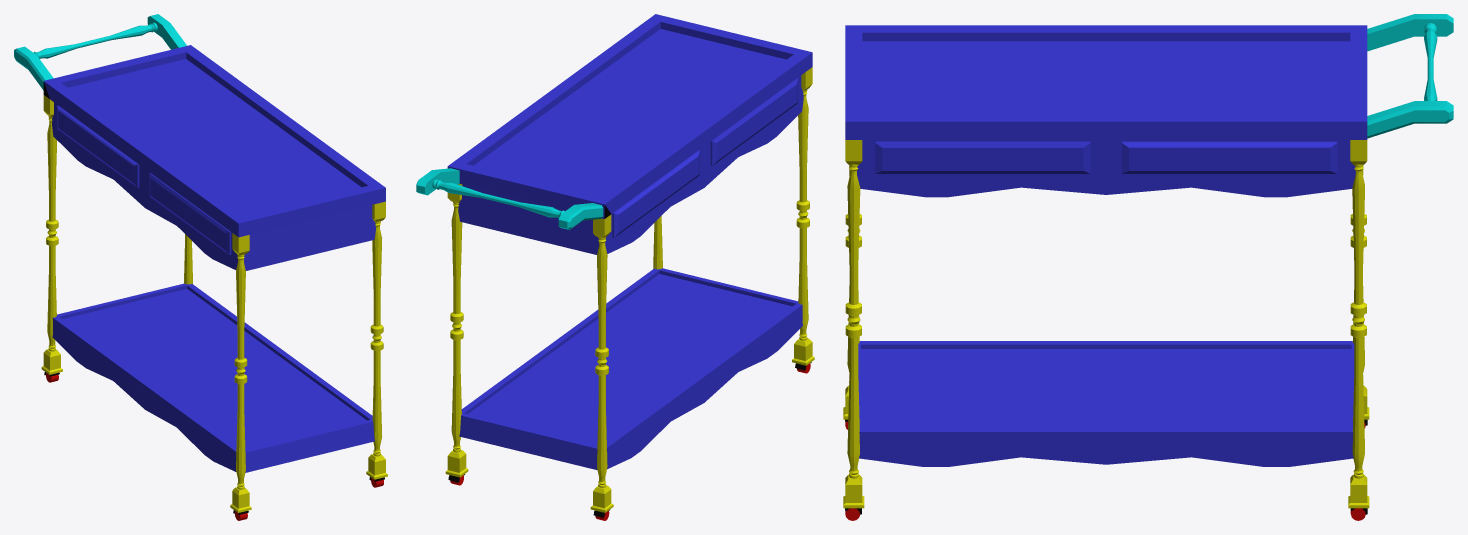
Rendered from SM_Cart_001.fbx.
3 views of the same model, side by side, from view 1: azimuth 30°, elevation 25°; view 2: azimuth 150°, elevation 25°; view 3: azimuth 270°, elevation 25° (orthographic). The views are drawn at different scales.
Parts seen in each view (by area): view 1: Cart_001; view 2: Cart_001; view 3: Cart_001.
Boxes of the visible parts, bbox=[...] form: Cart_001: bbox=[14, 14, 387, 520]; Cart_001: bbox=[416, 14, 814, 520]; Cart_001: bbox=[843, 14, 1453, 520].
Size of the model in its own units: 58.11 by 115 by 153.
